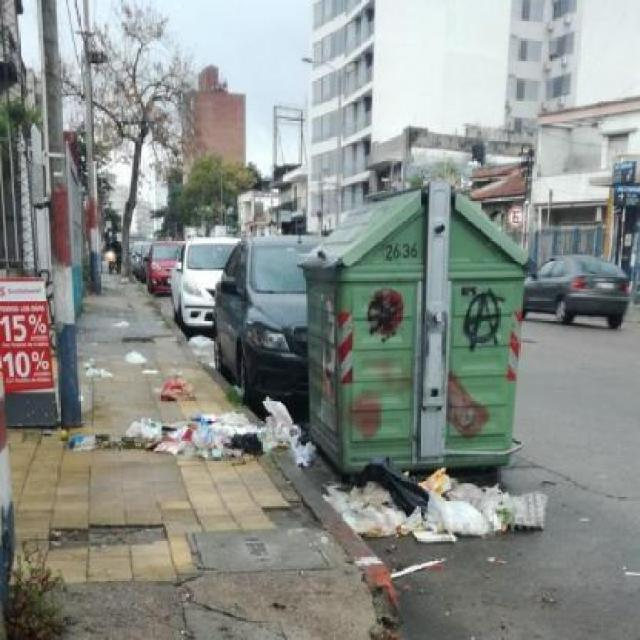garbage: (295, 454, 576, 538), (66, 402, 333, 465), (74, 346, 196, 398), (191, 325, 220, 367)
